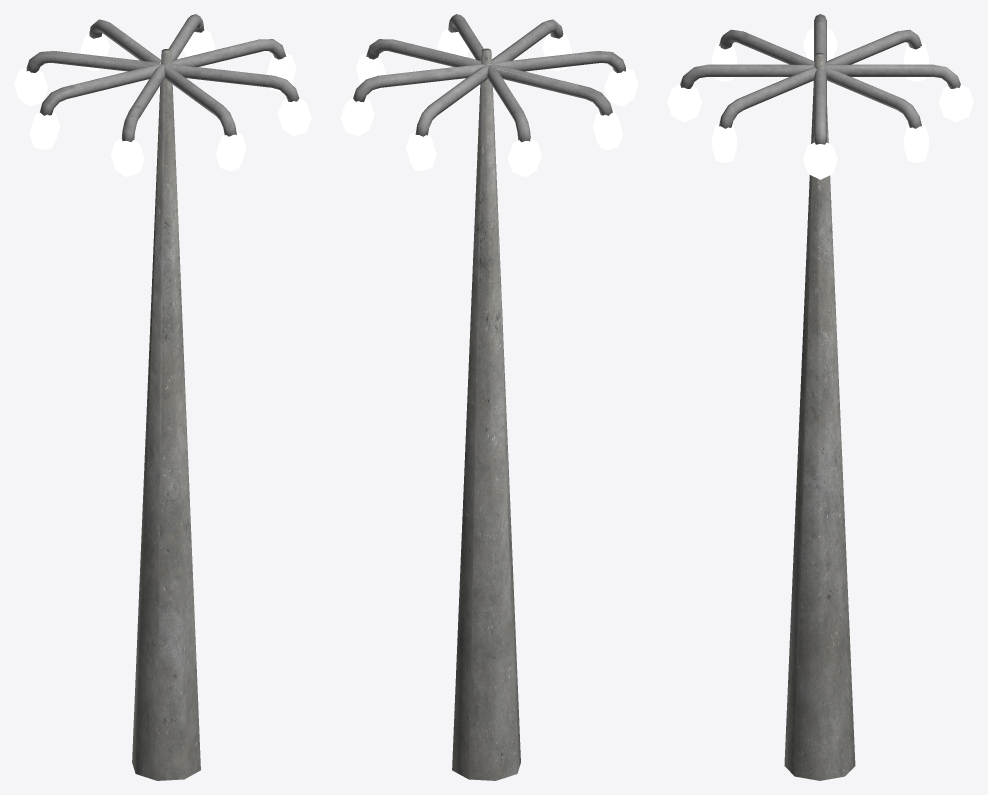
The model's file is big_pole.glb.
3 renders of one model, left to right at view 1: azimuth 30°, elevation 25°; view 2: azimuth 150°, elevation 25°; view 3: azimuth 270°, elevation 25°, orthographic.
Parts seen in each view (by area): view 1: BigPole_BigPole_0; view 2: BigPole_BigPole_0; view 3: BigPole_BigPole_0.
Part boxes in pixels (x1,y1,x2,y2): BigPole_BigPole_0: (14,14,311,780); BigPole_BigPole_0: (340,14,638,780); BigPole_BigPole_0: (667,14,973,780).
Size of the model in its own units: 285 by 728 by 285.
Materials: 1 (1 with a texture image).
